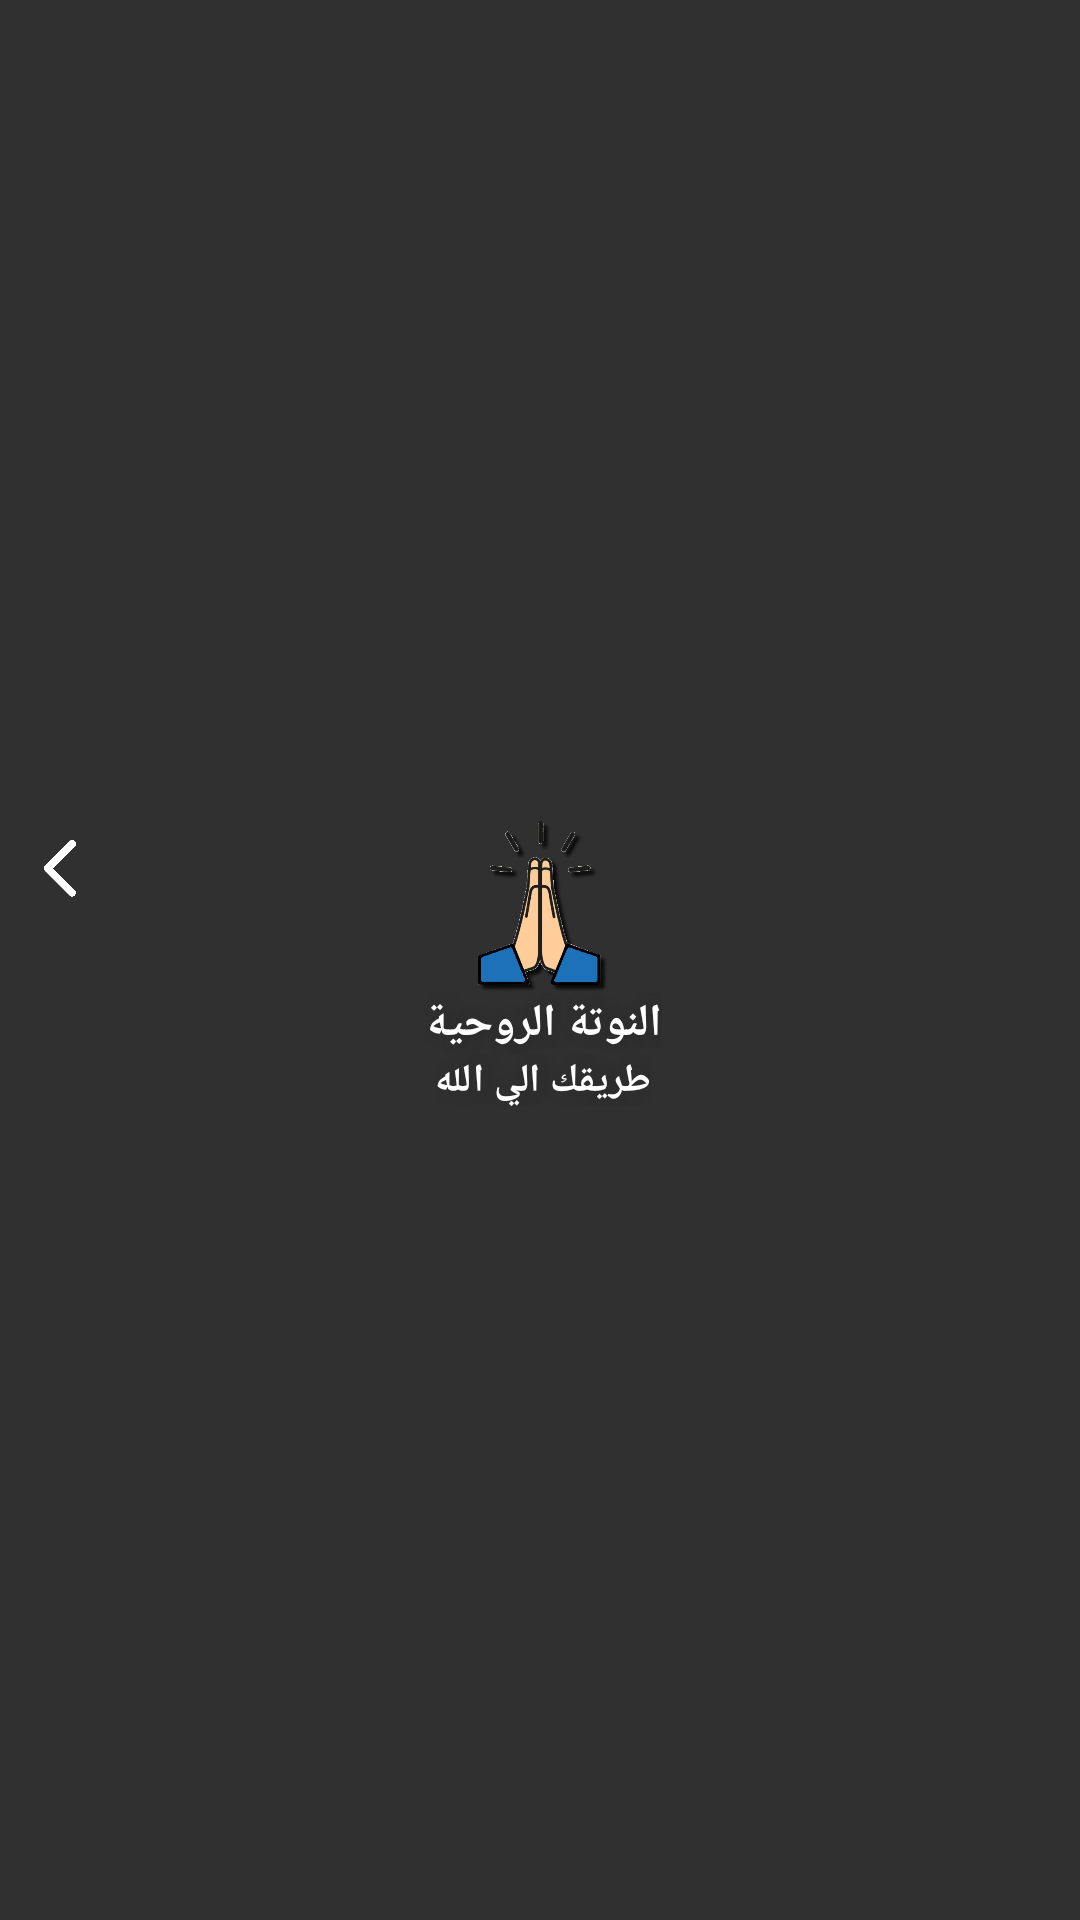

Point at icon controls on the screen. Image size 1080 × 1920, points as [x,y].
back: [60,868]
